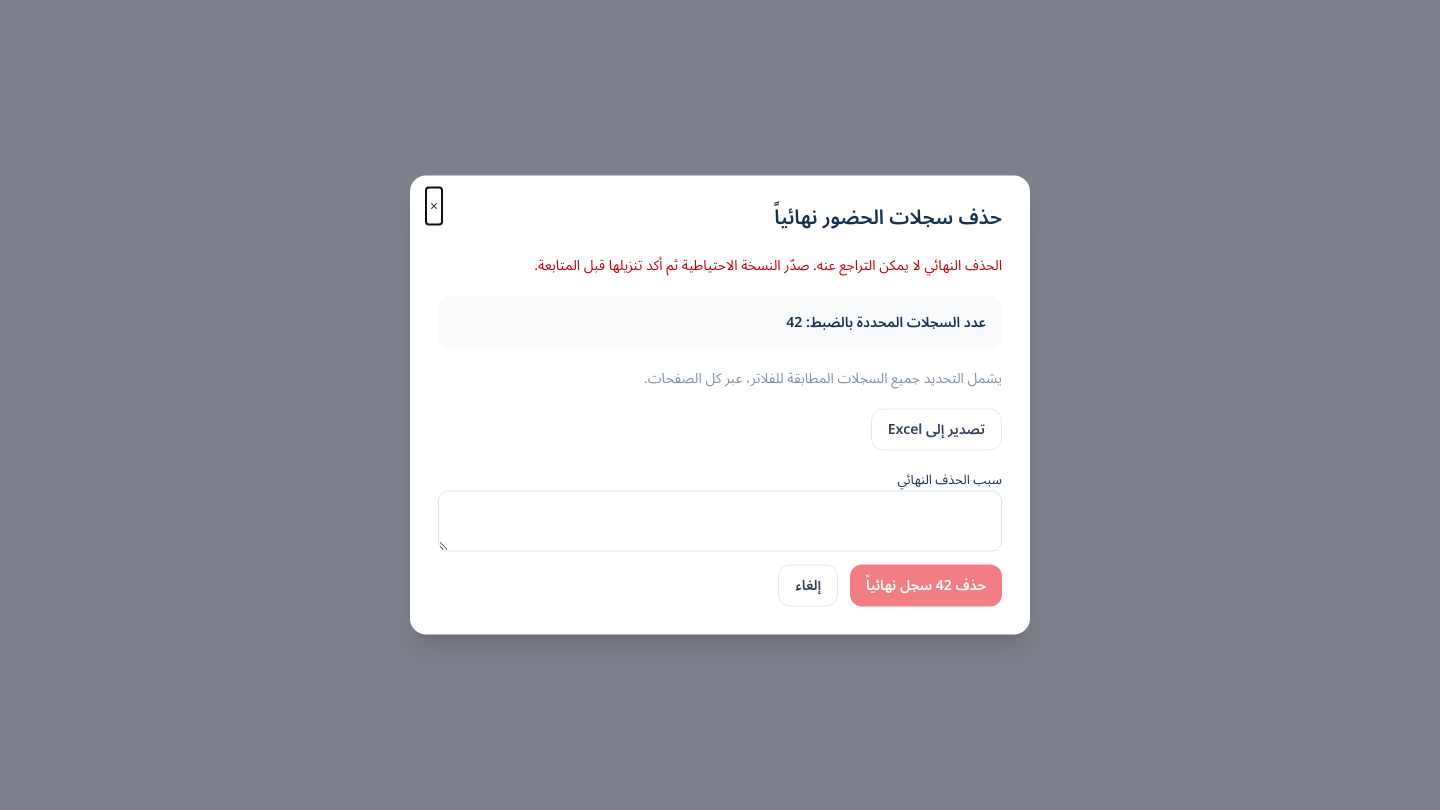
Test: mandatory backup consent interface › failed export never enables backup consent or deletion
The width and height of the screenshot is (1440, 810).
Check: the text "عدد السجلات المحددة بالضبط: 42" is shown, box [438,296,1002,348]
Click the button "تصدير إلى Excel" at (936,430), box [871,408,1002,450]
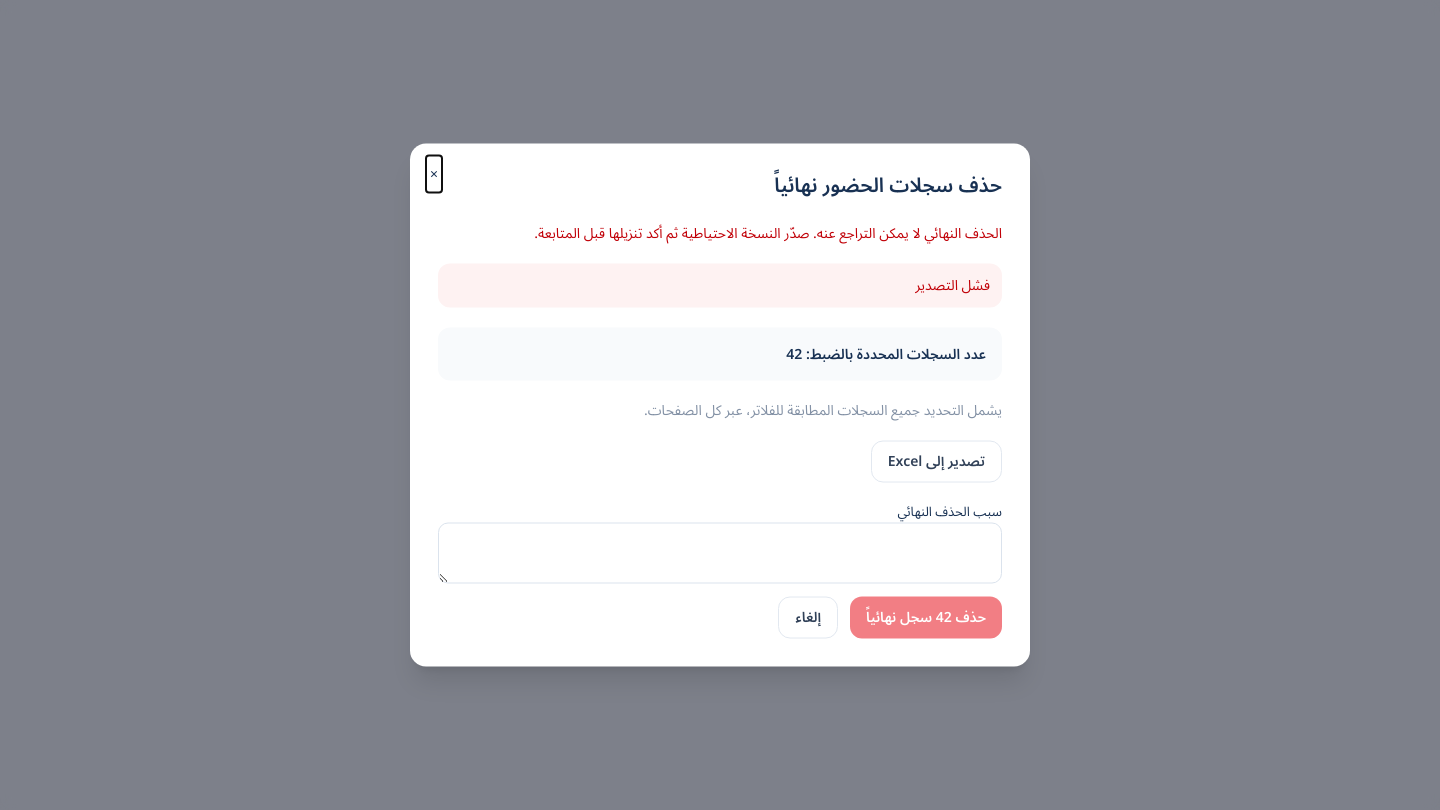
Check: the button "حذف 42 سجل نهائياً" is disabled, box [850,596,1002,638]
Check: the text "فشل التصدير" is shown, box [438,264,1002,308]
